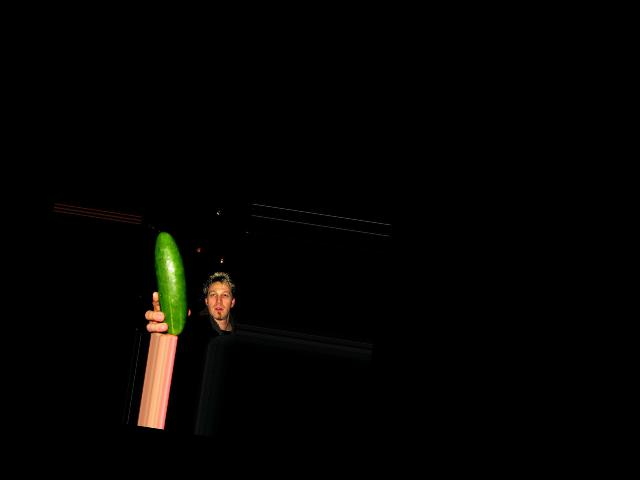cucumber: (142, 231, 197, 335)
